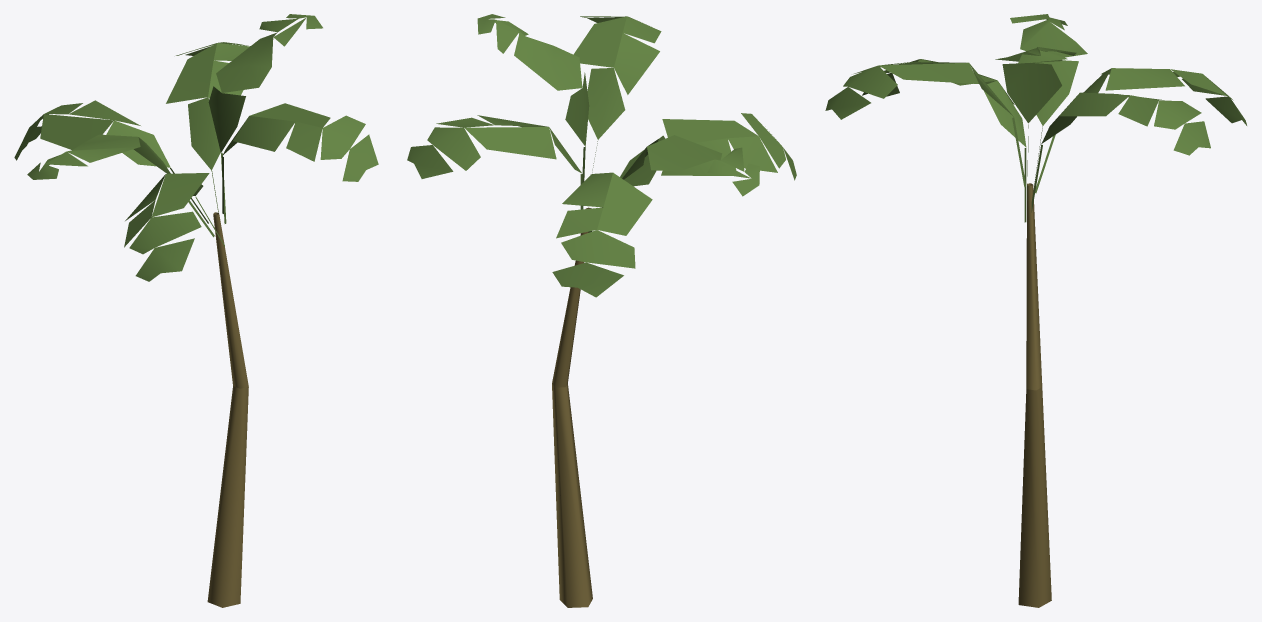
File: palm.dae
The picture shows the model from 3 angles, left to right: view 1: azimuth 30°, elevation 25°; view 2: azimuth 150°, elevation 25°; view 3: azimuth 270°, elevation 25°; orthographic projection. The views are drawn at different scales.
Parts seen in each view (by area): view 1: V_Tree_Palm_40ft (×18); view 2: V_Tree_Palm_40ft (×21); view 3: V_Tree_Palm_40ft (×13).
Part boxes in pixels (x1=…): V_Tree_Palm_40ft (×18): x1=40, y1=32, x2=378, y2=607; V_Tree_Palm_40ft (×21): x1=407, y1=16, x2=785, y2=607; V_Tree_Palm_40ft (×13): x1=825, y1=19, x2=1210, y2=607.
Size of the model in its own units: 263 by 322 by 496.
